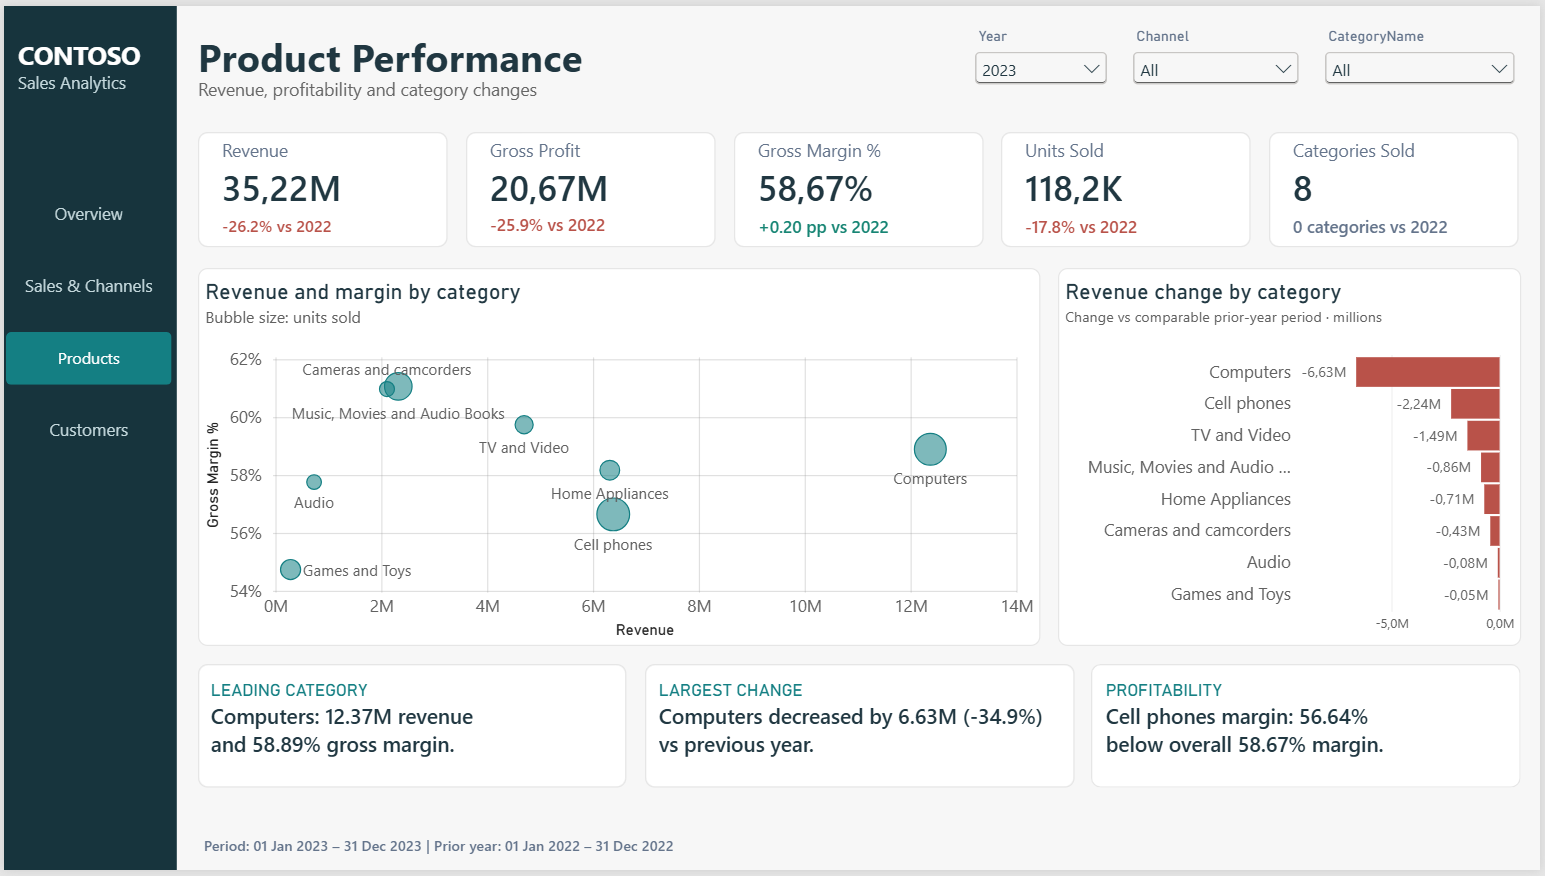

Layout of this report page (visuals, bound fields, positions):
{"tool":"powerbi","page":{"name":"Products","canvas":[1280,720],"ordinal":3},"visuals":[{"type":"shape","box":[162,548,357,103],"z":0},{"type":"shape","box":[0,0,144,720],"z":1000},{"type":"textbox","box":[12,26,120,64],"z":2000},{"type":"textbox","box":[162,20,600,45],"z":3000},{"type":"slicer","fields":{"Values":["Date.Year"]},"box":[804,18,120,56],"z":4000},{"type":"shape","box":[162,105,208,96],"z":5000},{"type":"shape","box":[385,105,208,96],"z":6000},{"type":"shape","box":[608,105,208,96],"z":7000},{"type":"shape","box":[831,105,208,96],"z":8000},{"type":"shape","box":[1054,105,208,96],"z":9000},{"type":"cardVisual","fields":{"Data":["_Measures.Revenue"]},"box":[172,109,190,96],"z":10000},{"type":"cardVisual","fields":{"Data":["_Measures.Gross Profit"]},"box":[395,109,190,96],"z":11000},{"type":"cardVisual","fields":{"Data":["_Measures.Gross Margin %"]},"box":[618,109,190,96],"z":12000},{"type":"cardVisual","fields":{"Data":["_Measures.Units Sold"]},"box":[841,109,190,96],"z":13000},{"type":"cardVisual","fields":{"Data":["_Measures.Categories Sold"]},"box":[1064,109,190,96],"z":14000},{"type":"shape","box":[534,548,358,103],"z":15000},{"type":"shape","box":[906,548,358,103],"z":16000},{"type":"cardVisual","title":"LEADING CATEGORY","fields":{"Data":["_Measures.Insight Leading Category Visual"]},"box":[168,552,352,96],"z":17000},{"type":"cardVisual","fields":{"Data":["_Measures.Report Period Label"]},"box":[162,690,1102,18],"z":18000},{"type":"pageNavigator","box":[2,152,138,224],"z":19000},{"type":"slicer","fields":{"Values":["Store.Channel"]},"box":[936,18,148,56],"z":20000},{"type":"slicer","fields":{"Values":["Product.CategoryName"]},"box":[1096,18,168,56],"z":21000},{"type":"textbox","box":[162,59,600,20],"z":22000},{"type":"scatterChart","title":"Revenue and margin by category","fields":{"Category":["Product.CategoryName"],"Series":["Product.CategoryName"],"Size":["_Measures.Units Sold"],"X":["_Measures.Revenue"],"Y":["_Measures.Gross Margin %"]},"box":[162,218,702,315],"z":23000},{"type":"clusteredBarChart","title":"Revenue change by category","fields":{"Category":["Product.CategoryName"],"Y":["_Measures.Revenue Delta Chart"]},"box":[878,218,386,315],"z":24000},{"type":"cardVisual","title":"LARGEST CHANGE","fields":{"Data":["_Measures.Insight Largest Category Change Visual"]},"box":[542,552,344,96],"z":25000},{"type":"cardVisual","title":"PROFITABILITY","fields":{"Data":["_Measures.Insight Category Below Margin"]},"box":[914,552,352,96],"z":26000}]}

Visuals, with their boxes in screenshot pixels (x1, y1, x2, y2), scaled from the page's 1280x720 canvas onto the 1545x876 screenshot:
shape: 196 667 626 792
shape: 0 0 174 875
textbox: 14 32 159 109
textbox: 196 24 920 79
slicer - Date.Year: 970 22 1115 90
shape: 196 128 447 245
shape: 465 128 716 245
shape: 734 128 985 245
shape: 1003 128 1254 245
shape: 1272 128 1523 245
cardVisual - _Measures.Revenue: 208 133 437 249
cardVisual - _Measures.Gross Profit: 477 133 706 249
cardVisual - _Measures.Gross Margin %: 746 133 975 249
cardVisual - _Measures.Units Sold: 1015 133 1244 249
cardVisual - _Measures.Categories Sold: 1284 133 1514 249
shape: 645 667 1077 792
shape: 1094 667 1526 792
"LEADING CATEGORY" cardVisual: 203 672 628 788
cardVisual - _Measures.Report Period Label: 196 839 1526 861
pageNavigator: 2 185 169 457
slicer - Store.Channel: 1130 22 1308 90
slicer - Product.CategoryName: 1323 22 1526 90
textbox: 196 72 920 96
"Revenue and margin by category" scatterChart: 196 265 1043 648
"Revenue change by category" clusteredBarChart: 1060 265 1526 648
"LARGEST CHANGE" cardVisual: 654 672 1069 788
"PROFITABILITY" cardVisual: 1103 672 1528 788
